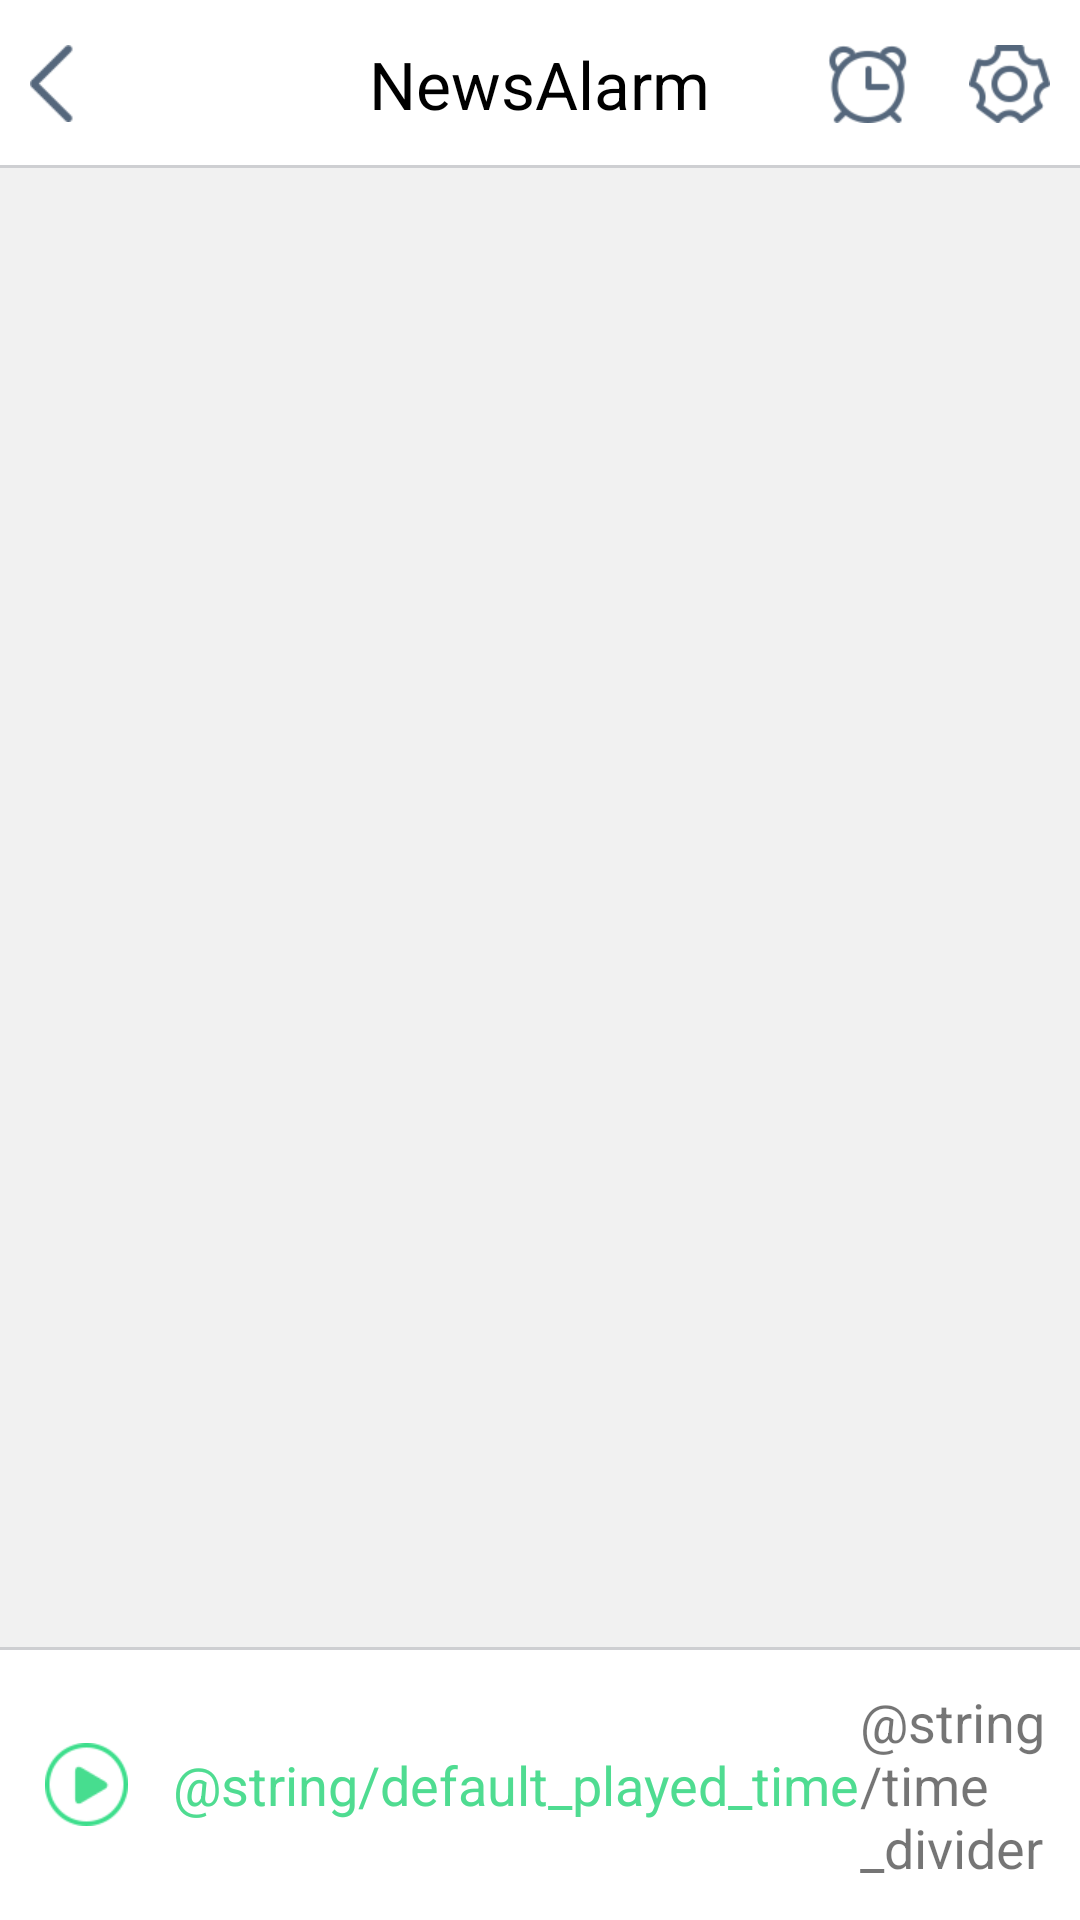

Point at icon controls on the screen. Image size 1080 x 1920, points as (x=x, y=y).
back: (x=51, y=83)
settings: (x=1009, y=84)
